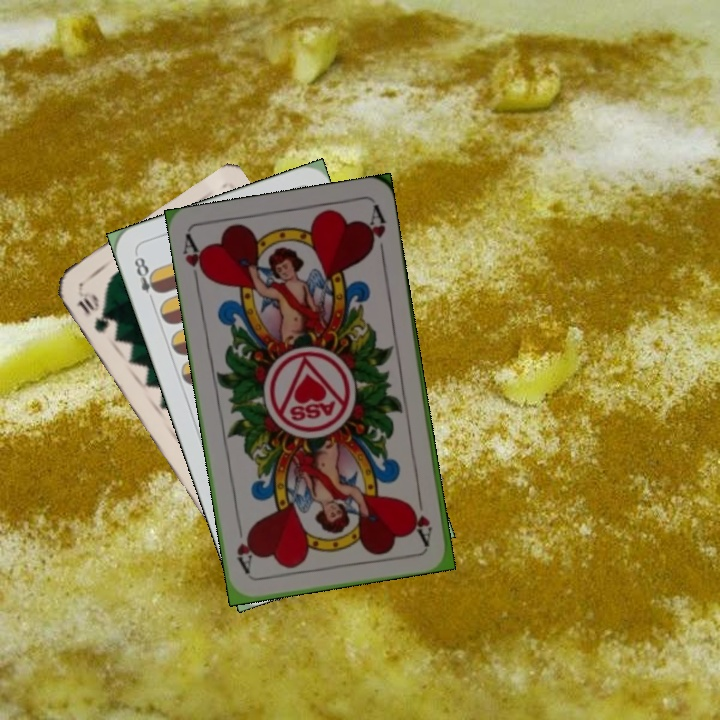E8: (130, 253, 163, 307)
G10: (74, 285, 112, 336)
HA: (178, 231, 210, 291), (409, 488, 435, 547)
